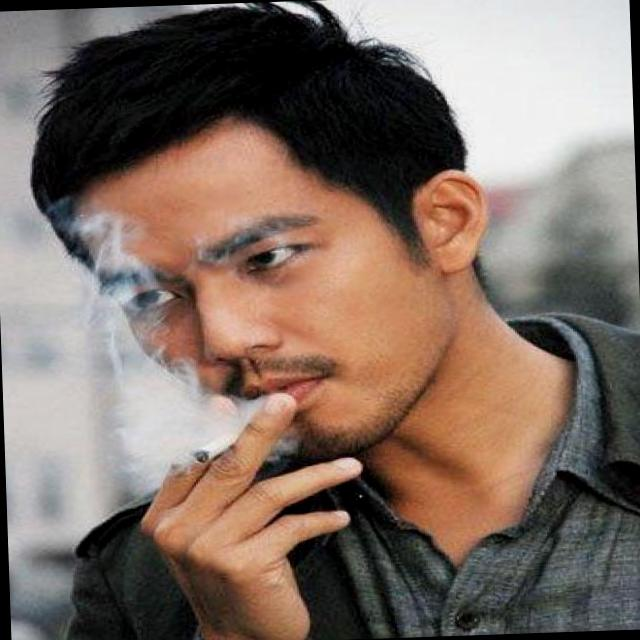smoke: (185, 415, 296, 466)
